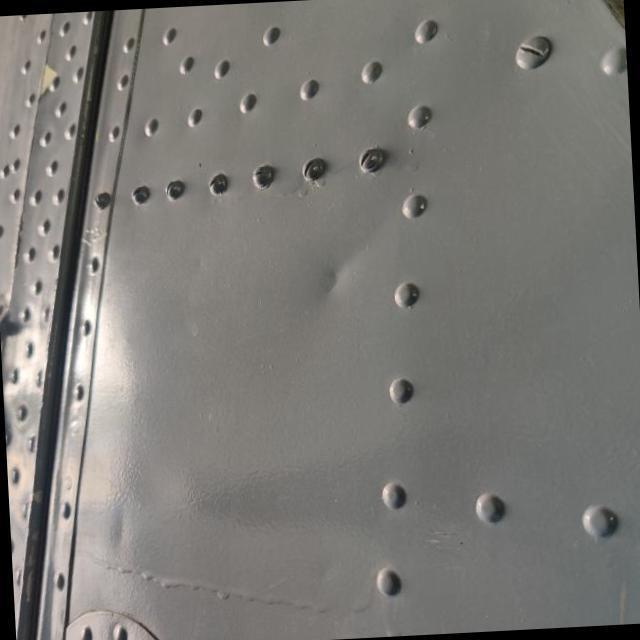Dent: (306, 243, 371, 312)
